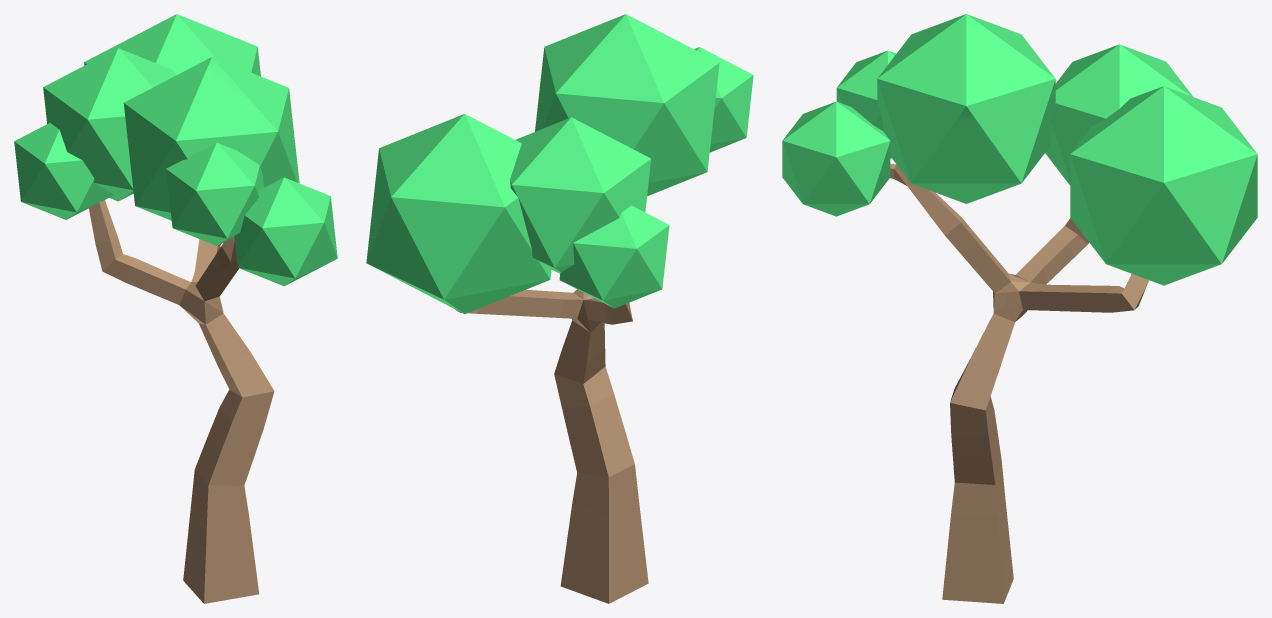
Rendered from Tree_01.fbx.
The picture shows the model from 3 angles, left to right: view 1: azimuth 30°, elevation 25°; view 2: azimuth 150°, elevation 25°; view 3: azimuth 270°, elevation 25°; orthographic projection. The views are drawn at different scales.
Visible parts, largest first — view 1: Tree_01; view 2: Tree_01; view 3: Tree_01.
Part boxes in pixels (x1,y1,x2,y2): Tree_01: [14, 14, 337, 603]; Tree_01: [366, 14, 753, 603]; Tree_01: [782, 14, 1257, 603].
Size of the model in its own units: 156 by 318 by 241.
